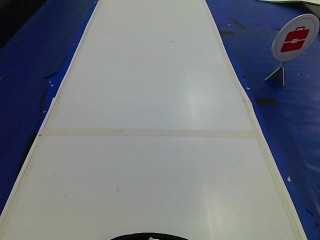company: (270, 13, 318, 63)
